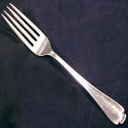Fork: (1, 3, 128, 128)
